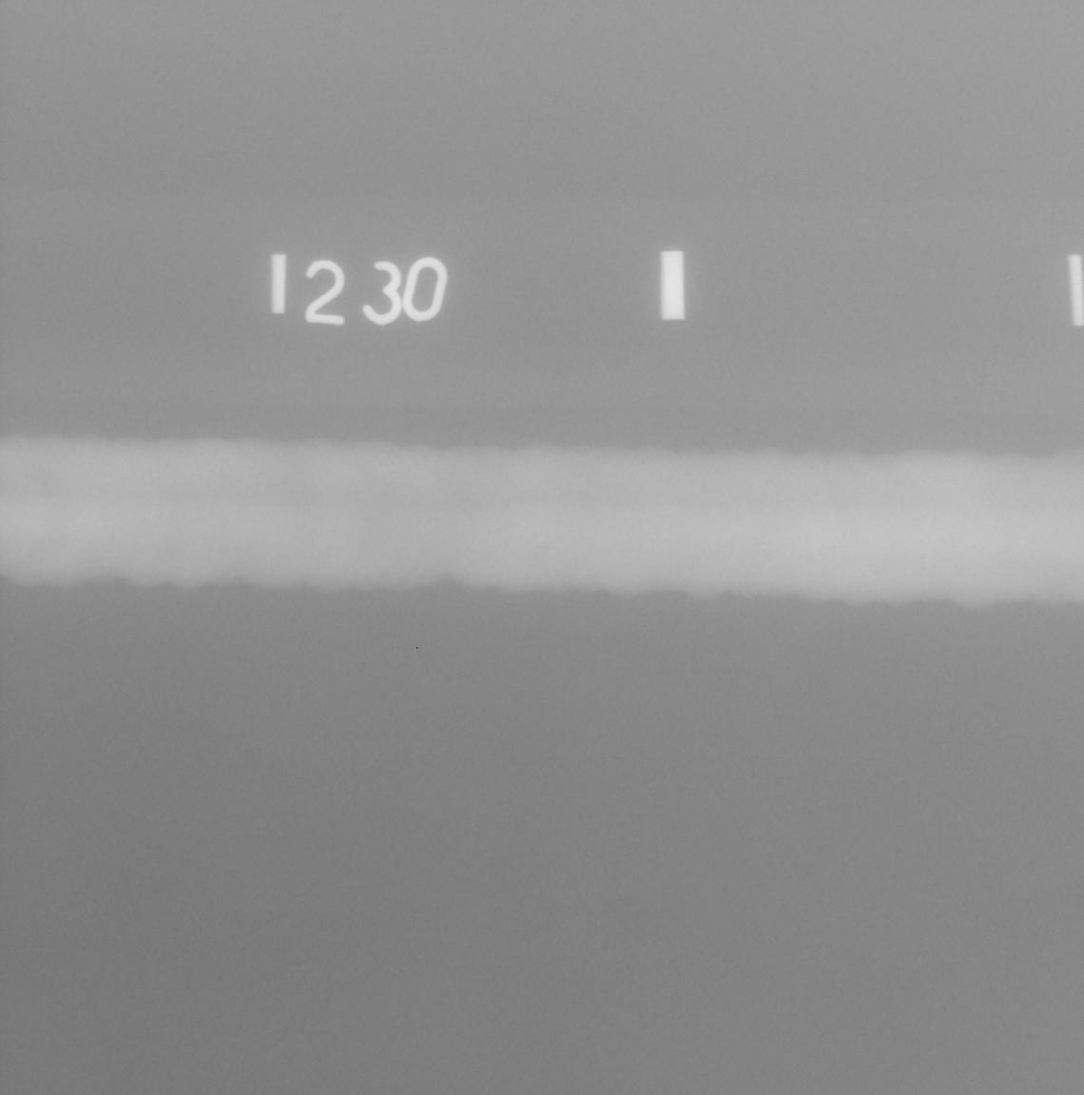Pore/Porosity: (32, 574, 36, 579), (24, 575, 28, 578)
